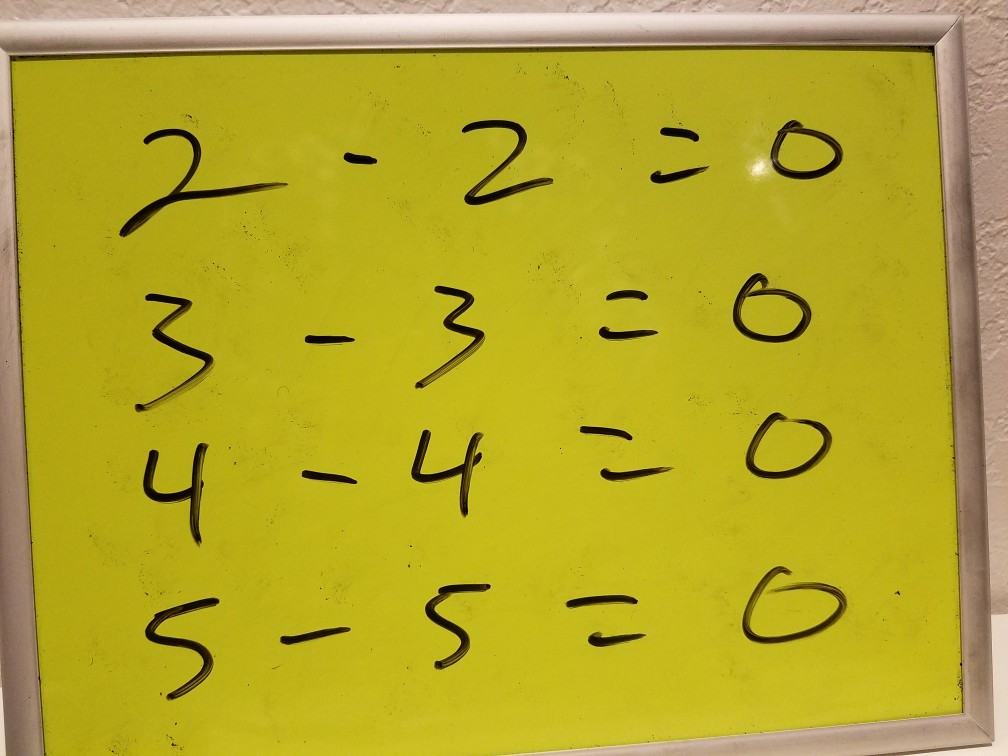-: (289, 447, 366, 500), (273, 607, 356, 656), (295, 320, 360, 353), (336, 141, 383, 183)
0: (732, 559, 856, 647), (723, 263, 820, 356), (739, 405, 836, 486), (763, 109, 851, 189)
2: (101, 115, 289, 236), (452, 110, 564, 216)
3: (120, 279, 226, 423), (404, 271, 493, 391)
4: (134, 433, 222, 556), (401, 420, 494, 522)
5: (138, 585, 234, 707), (415, 571, 501, 681)
=: (570, 410, 677, 494), (554, 586, 662, 653), (633, 109, 715, 195), (587, 274, 665, 352)
